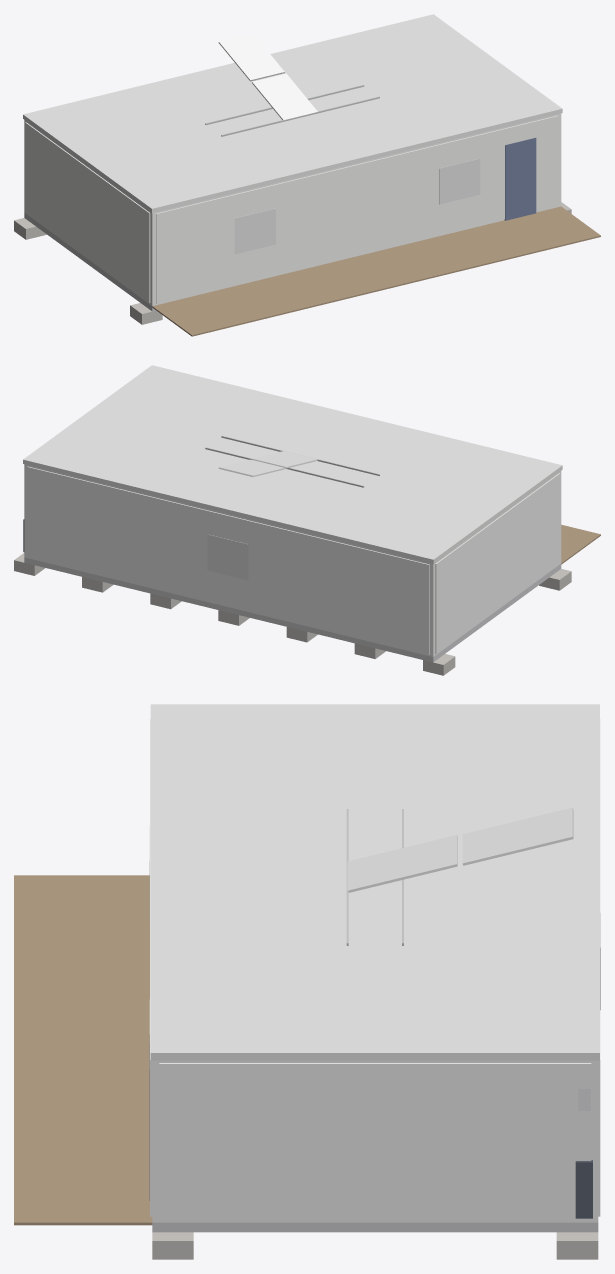
The model's file is Studio-40-FullSolar+TerraceDeck-LOD0.glb.
The picture shows the model from 3 angles, top to bottom: view 1: azimuth 30°, elevation 25°; view 2: azimuth 150°, elevation 25°; view 3: azimuth 270°, elevation 25°; orthographic projection. The views are drawn at different scales.
Parts seen in each view (by area): view 1: RoofMain, ExteriorPanelsStandard, TerraceDeck, SolarPanelArray, WindowsStandard, ExteriorShell, EntryDoor, FoundationBlocks, BaseFrame, SolarMountingHardware; view 2: RoofMain, ExteriorPanelsStandard, BaseFrame, ExteriorShell, FoundationBlocks, WindowsStandard, SolarPanelArray, TerraceDeck, SolarMountingHardware; view 3: RoofMain, ExteriorPanelsStandard, TerraceDeck, SolarPanelArray, ExteriorShell, BaseFrame, FoundationBlocks, SolarBattery.
Boxes of the visible parts, bbox=[...] form: RoofMain: bbox=[23, 14, 562, 212]; ExteriorPanelsStandard: bbox=[25, 115, 558, 303]; TerraceDeck: bbox=[152, 206, 600, 336]; SolarPanelArray: bbox=[218, 33, 317, 119]; WindowsStandard: bbox=[234, 158, 480, 254]; ExteriorShell: bbox=[24, 113, 561, 305]; EntryDoor: bbox=[504, 137, 536, 220]; FoundationBlocks: bbox=[14, 202, 571, 324]; BaseFrame: bbox=[24, 213, 155, 311]; SolarMountingHardware: bbox=[205, 85, 379, 136]; RoofMain: bbox=[23, 365, 562, 563]; ExteriorPanelsStandard: bbox=[27, 466, 560, 654]; BaseFrame: bbox=[24, 557, 561, 662]; ExteriorShell: bbox=[24, 464, 561, 656]; FoundationBlocks: bbox=[14, 553, 571, 675]; WindowsStandard: bbox=[207, 534, 248, 580]; SolarPanelArray: bbox=[218, 451, 317, 476]; TerraceDeck: bbox=[561, 524, 600, 564]; SolarMountingHardware: bbox=[205, 436, 379, 487]; RoofMain: bbox=[150, 704, 599, 1060]; ExteriorPanelsStandard: bbox=[150, 718, 600, 1220]; TerraceDeck: bbox=[14, 875, 152, 1225]; SolarPanelArray: bbox=[347, 807, 573, 892]; ExteriorShell: bbox=[152, 1060, 598, 1222]; BaseFrame: bbox=[152, 1222, 598, 1232]; FoundationBlocks: bbox=[152, 1232, 598, 1259]; SolarBattery: bbox=[575, 1160, 592, 1218].
Size of the model in its own units: 12.49 by 4.07 by 8.49.
